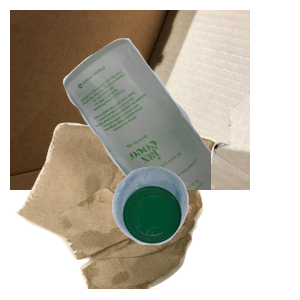cardboard: (10, 10, 250, 190)
glass: (60, 36, 300, 216)
plastic: (110, 164, 300, 300)
trash: (14, 120, 222, 300)
